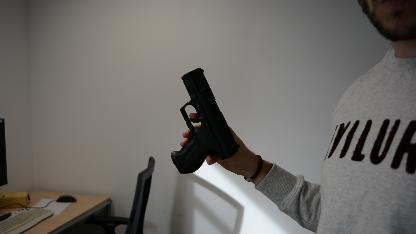pistol: (170, 66, 240, 173)
